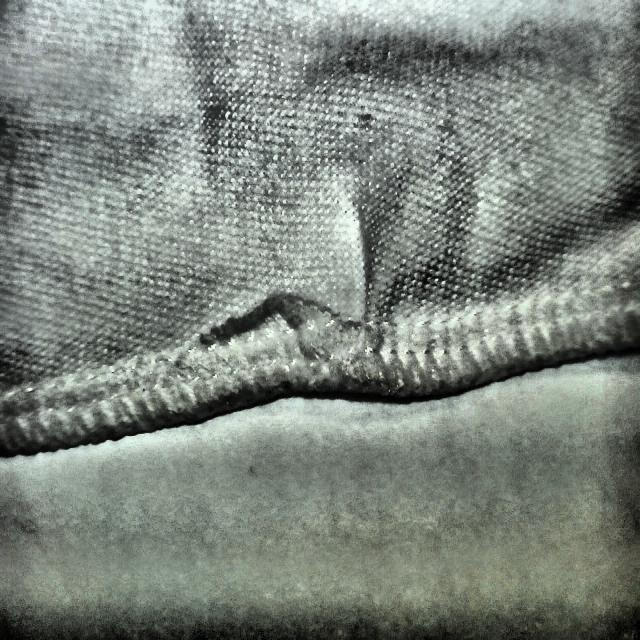seam: (188, 193, 435, 427)
